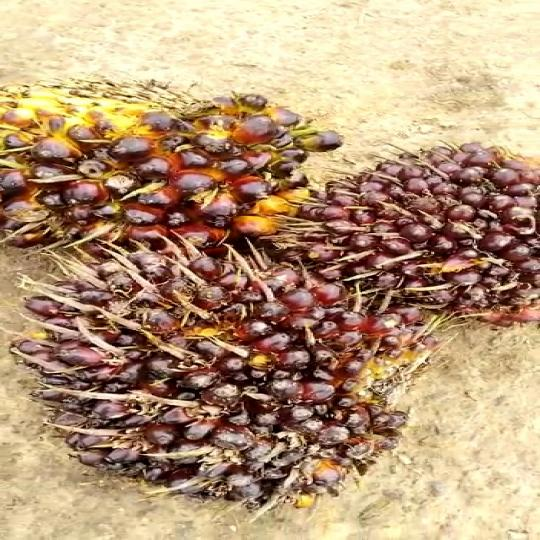kurang masak: (29, 225, 404, 526), (0, 59, 336, 256), (272, 146, 540, 329)
